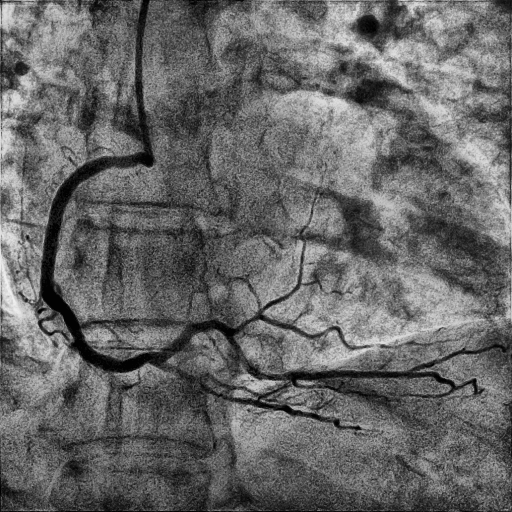pborca: (161, 321, 415, 381)
pda: (154, 361, 360, 429)
rca: (41, 155, 163, 372)
